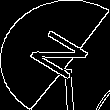N_SE: (18, 24, 92, 86)
